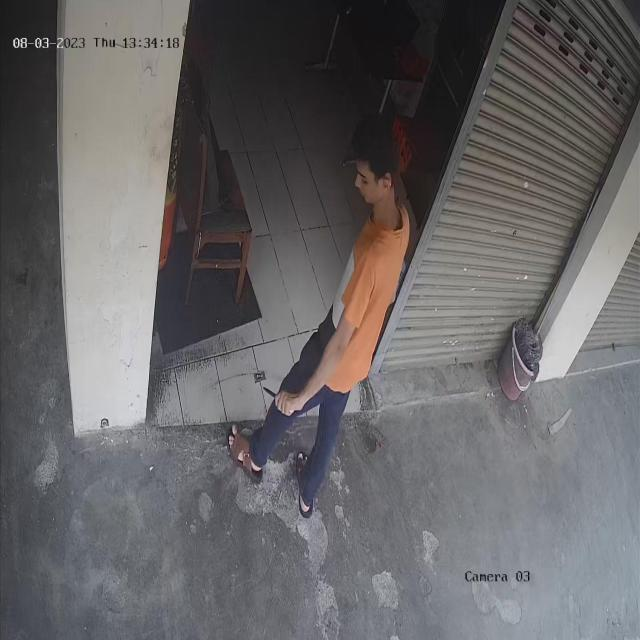Knife: (254, 372, 297, 422)
